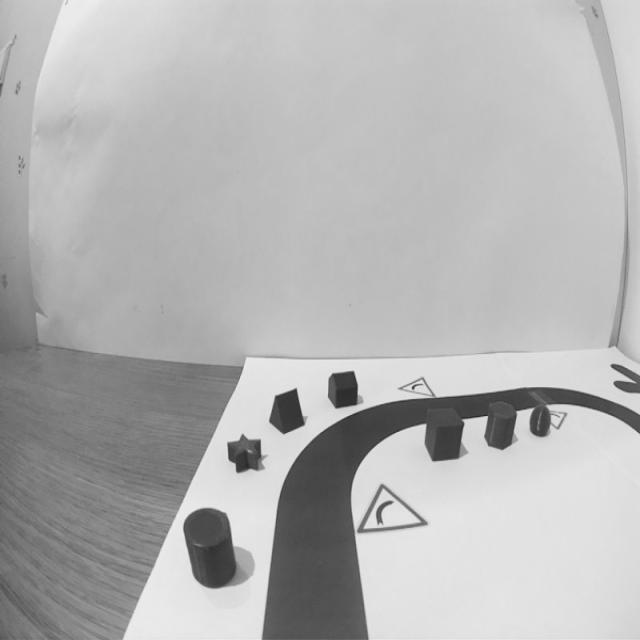ball: (527, 399, 552, 436)
cube: (422, 403, 466, 464)
cylinder: (180, 505, 240, 592)
hexagon: (482, 395, 520, 454)
home: (326, 365, 362, 413)
laneRightTurn: (270, 404, 374, 544)
lineStraight: (256, 503, 375, 640)
star: (224, 430, 266, 478)
triangle: (269, 382, 307, 440)
